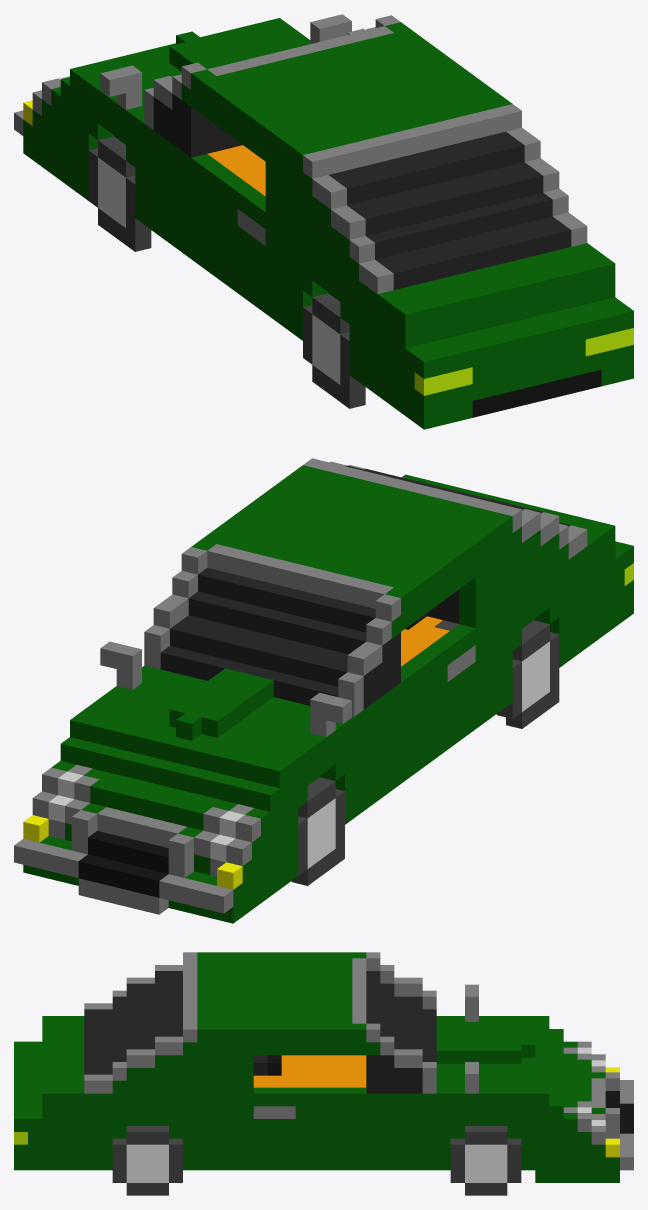
The model's file is Green car.obj.
3 views of the same model, one above another, from view 1: azimuth 30°, elevation 25°; view 2: azimuth 150°, elevation 25°; view 3: azimuth 270°, elevation 25° (orthographic). The views are drawn at different scales.
Bounding box in the file's own units: 1.5 × 1.3 × 4.4.
1 material, 1 textured.
